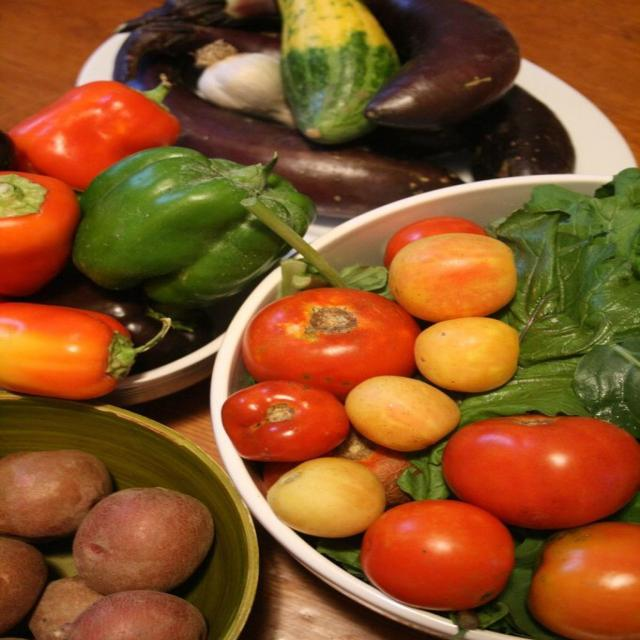Bell pepper: (72, 148, 318, 310), (5, 73, 181, 193), (0, 303, 177, 399), (0, 169, 77, 300)
